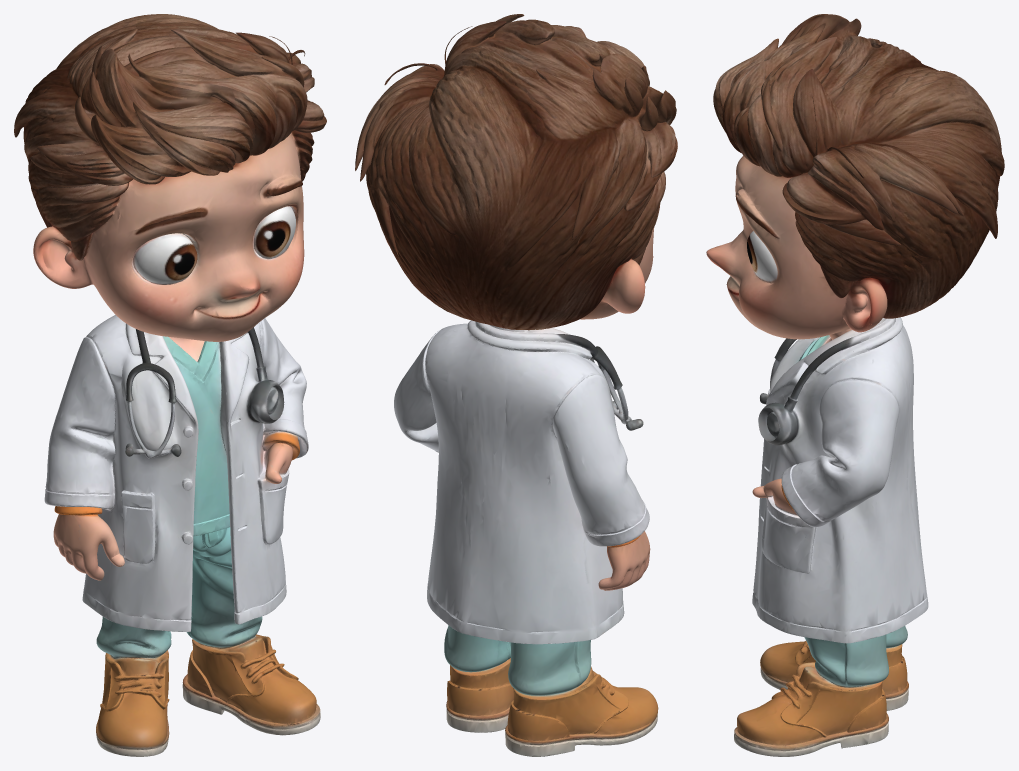
File: medico.glb
The picture shows the model from 3 angles, left to right: view 1: azimuth 30°, elevation 25°; view 2: azimuth 150°, elevation 25°; view 3: azimuth 270°, elevation 25°; orthographic projection. The views are drawn at different scales.
Parts seen in each view (by area): view 1: model; view 2: model; view 3: model.
Boxes of the visible parts, left/top/right/bottom form: model: left=14, top=14, right=326, bottom=756; model: left=355, top=14, right=677, bottom=756; model: left=706, top=14, right=1004, bottom=756.
Bounding box in the file's own units: 0.7828 × 1.9 × 0.7655.
Materials: 1 (1 with a texture image).
